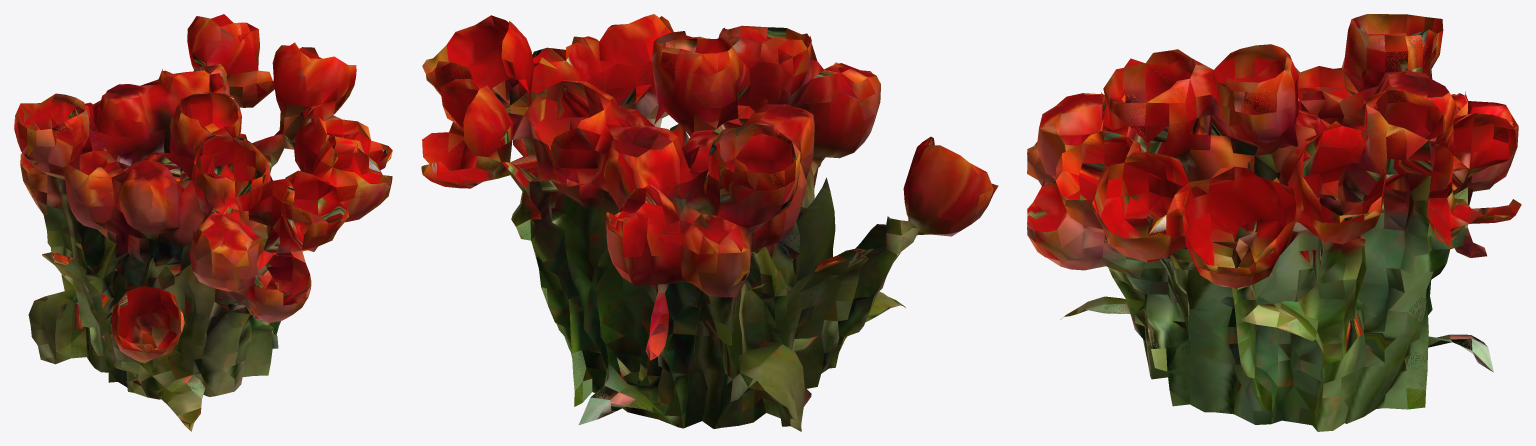
3 renders of one model, left to right at view 1: azimuth 30°, elevation 25°; view 2: azimuth 150°, elevation 25°; view 3: azimuth 270°, elevation 25°, orthographic. The views are drawn at different scales.
Parts seen in each view (by area): view 1: 2bb621c4; view 2: 2bb621c4; view 3: 2bb621c4.
Boxes of the visible parts, x1,y1,x2,y2 form: 2bb621c4: (14, 14, 392, 431); 2bb621c4: (421, 14, 998, 431); 2bb621c4: (1027, 14, 1521, 431).
Bounding box in the file's own units: 0.1339 × 0.0994 × 0.1285.
Materials: 1 (1 with a texture image).
